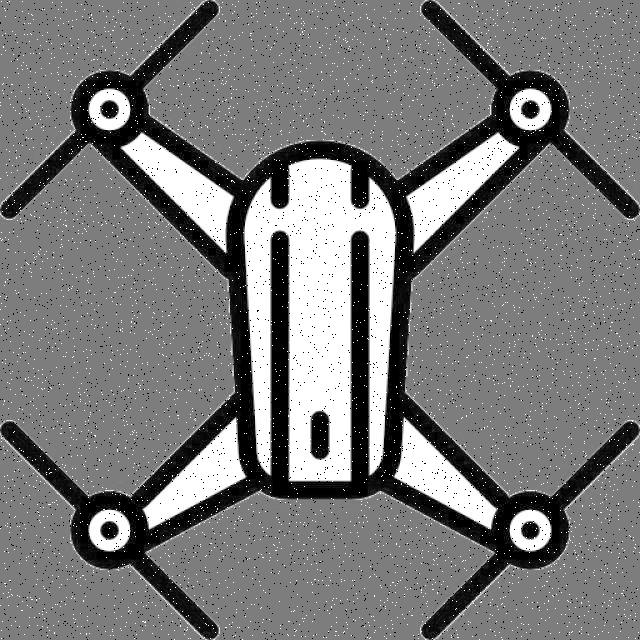drone: (1, 2, 640, 640)
